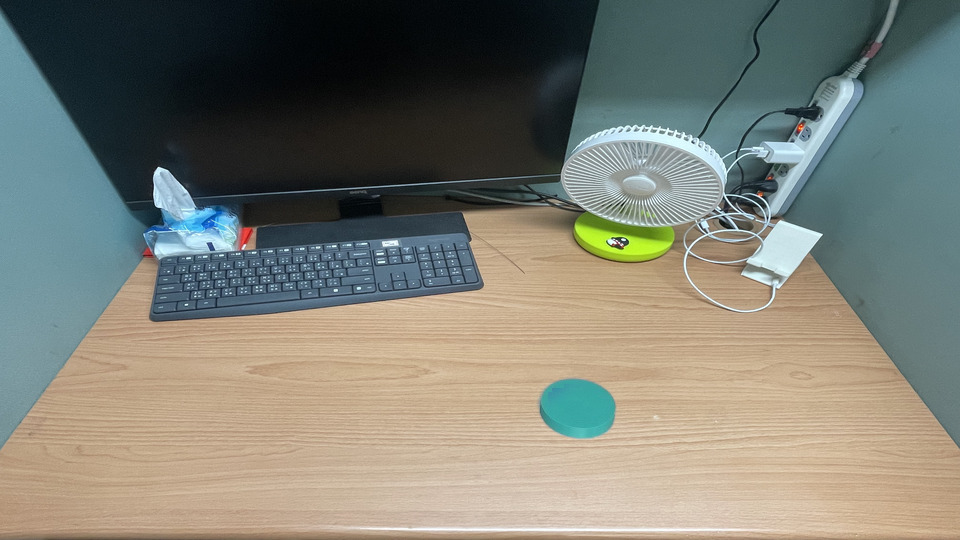blade: (459, 338, 480, 395)
round_grasp: (424, 392, 488, 458)
